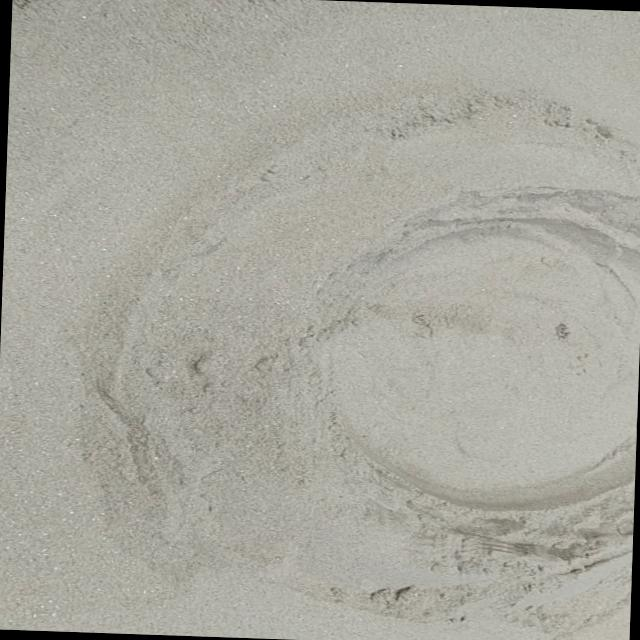C40: (325, 188, 640, 555)
